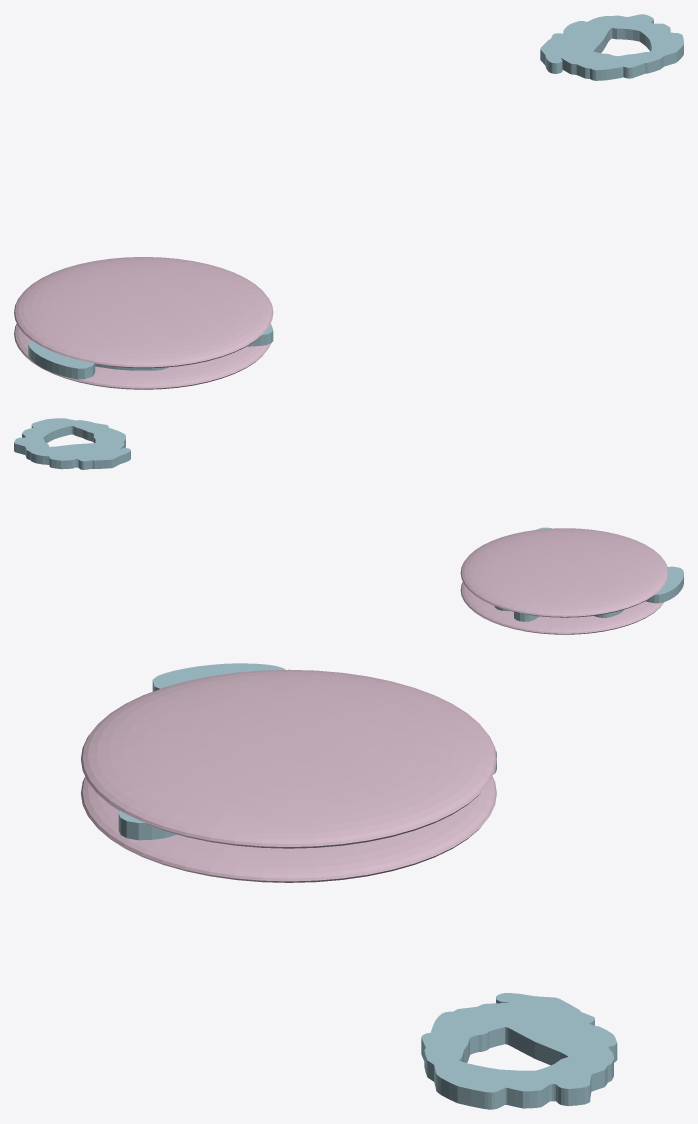
Rendered from Josephina J  macaron.glb.
The picture shows the model from 3 angles, top to bottom: view 1: azimuth 30°, elevation 25°; view 2: azimuth 150°, elevation 25°; view 3: azimuth 270°, elevation 25°; orthographic projection. The views are drawn at different scales.
Visible parts, largest first — view 1: Mesh_Mesh_head_geo.001_lambert2SG.001; view 2: Mesh_Mesh_head_geo.001_lambert2SG.001; view 3: Mesh_Mesh_head_geo.001_lambert2SG.001.
Part boxes in pixels (box(x1,y1,x2,y2)): Mesh_Mesh_head_geo.001_lambert2SG.001: box(14, 14, 683, 389); Mesh_Mesh_head_geo.001_lambert2SG.001: box(14, 418, 683, 634); Mesh_Mesh_head_geo.001_lambert2SG.001: box(81, 663, 617, 1109).
Size of the model in its own units: 0.0709 by 0.011 by 0.0284.
